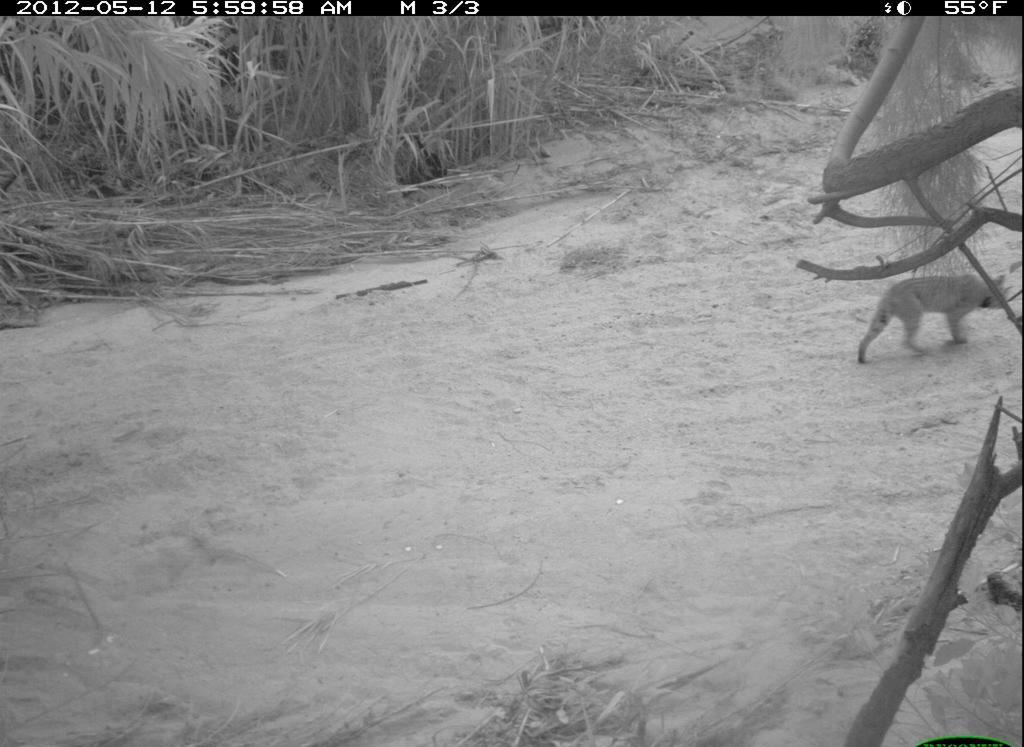bobcat: (848, 264, 1012, 370)
